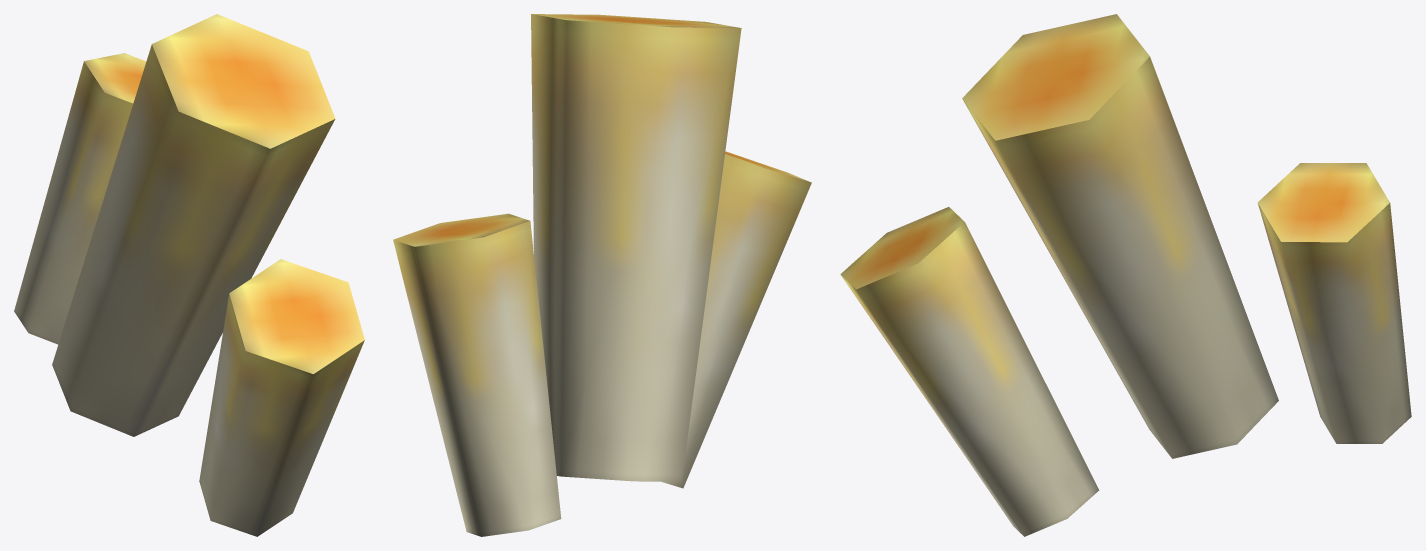
File: Area06_30.fbx
3 views of the same model, side by side, from view 1: azimuth 30°, elevation 25°; view 2: azimuth 150°, elevation 25°; view 3: azimuth 270°, elevation 25° (orthographic). The views are drawn at different scales.
Visible parts, largest first — view 1: Area06_30; view 2: Area06_30; view 3: Area06_30.
Part boxes in pixels (x1=…): Area06_30: x1=14, y1=14, x2=364, y2=536; Area06_30: x1=393, y1=14, x2=811, y2=536; Area06_30: x1=840, y1=14, x2=1411, y2=536.
Size of the model in its own units: 21.61 by 50.77 by 54.24.
